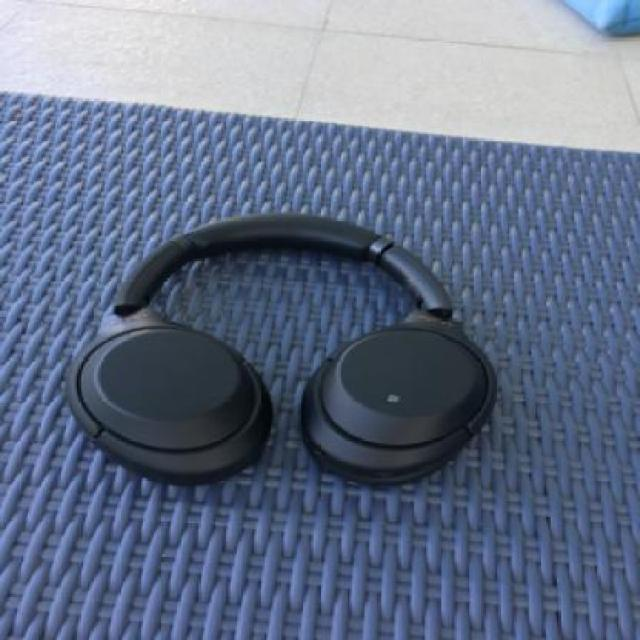earphone: (76, 158, 576, 550)
